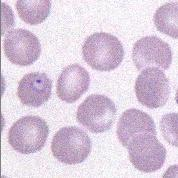Infected: (17, 72, 52, 107)
Uninfected: (82, 32, 124, 72), (51, 125, 92, 164), (77, 94, 117, 133), (127, 132, 166, 172), (8, 116, 49, 154), (116, 109, 157, 147), (134, 66, 170, 108), (3, 28, 41, 65), (132, 36, 171, 72), (56, 64, 90, 103), (14, 0, 52, 25), (152, 3, 178, 37)
